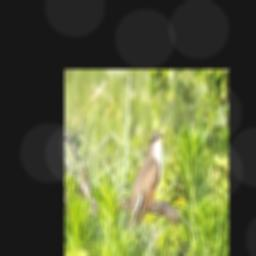Cuckoo: (128, 131, 166, 233)
